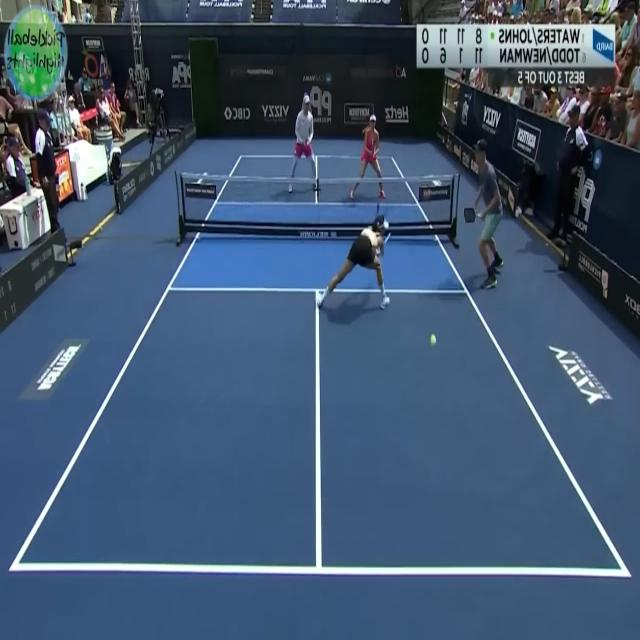Pickleball: (428, 332, 438, 348)
